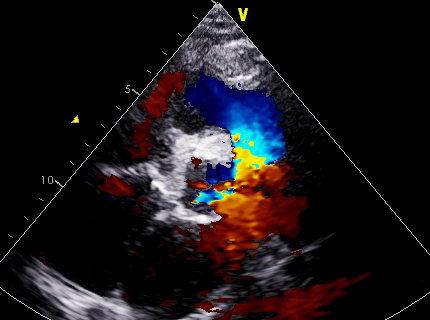PR: (231, 139, 307, 258)
